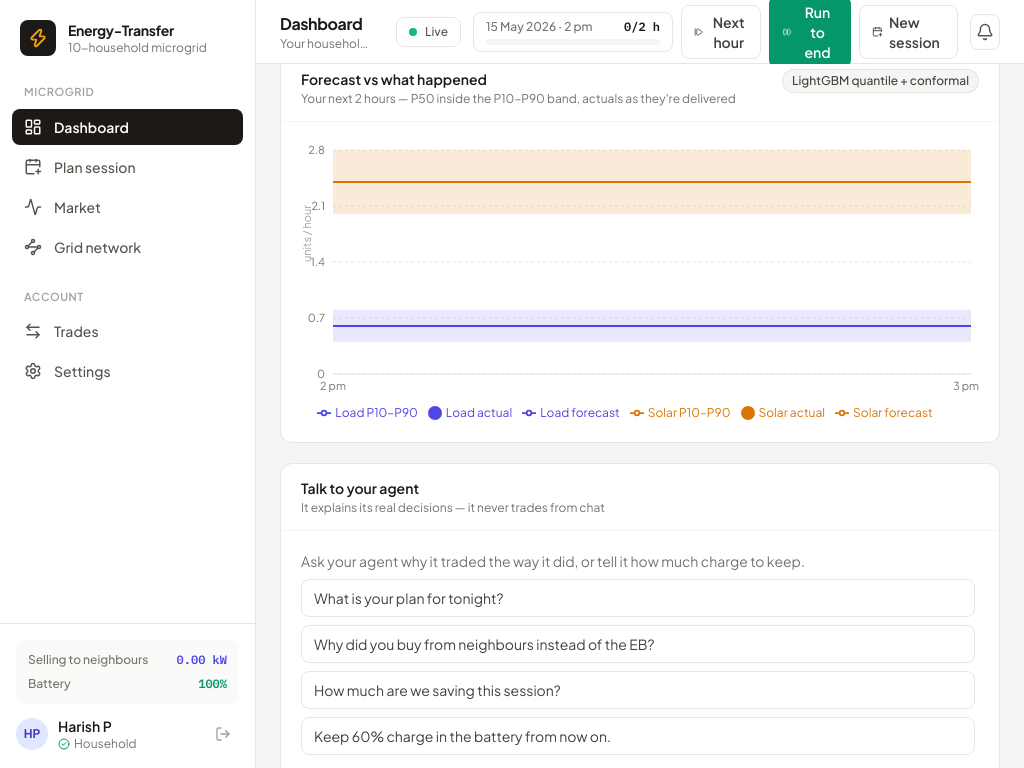
Test: navigation › opens trades with the agent's own reasoning
(page scrolled)
Expected: the heading "Dashboard" is shown, [280,12,372,36]
Click the link "Trades" at [61, 331], box [24,322,98,340]
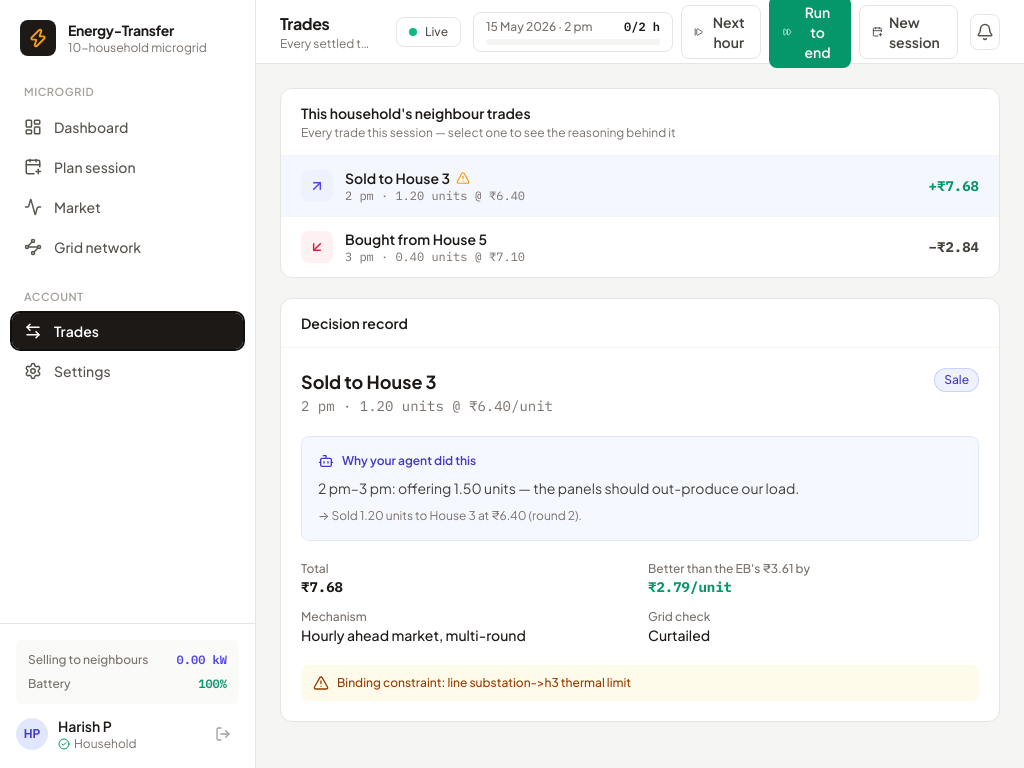
Result: the heading "Decision record" is shown at [301,313,408,333]
Result: the text "Why your agent did this" is shown at [318,453,476,469]
Result: the text "offering 1.50 units" is shown at [318,479,799,497]
